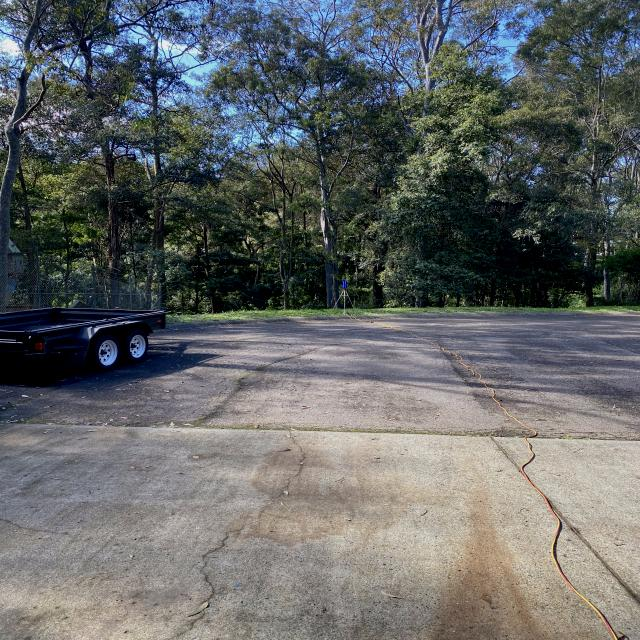matrix: (342, 280, 348, 288)
